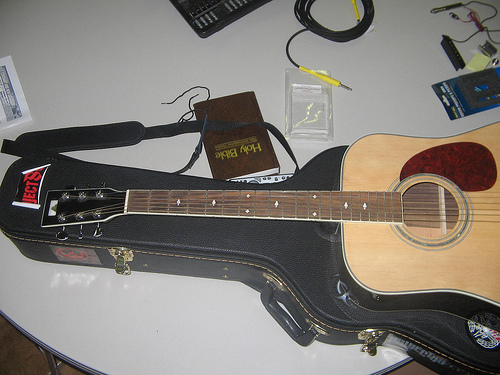guitar: (41, 122, 499, 331)
